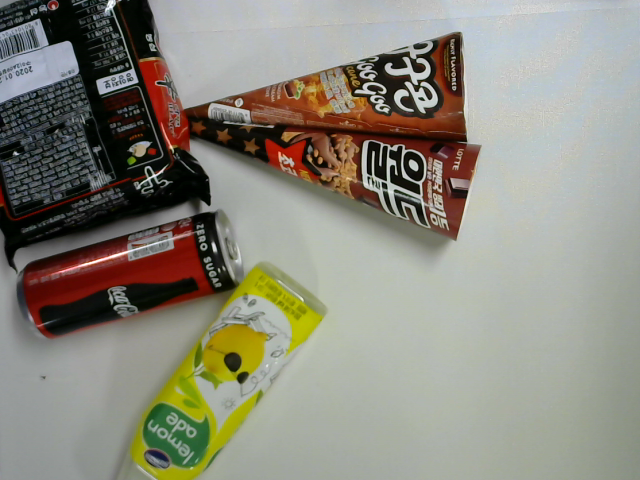Coca_Cola_Zero_Can_250ml: (16, 209, 242, 344)
GooGoo_Cone_CVS: (183, 32, 469, 143)
Sinramen_Black: (1, 1, 216, 277)
Sunkist_Lemonaid_Pet: (113, 264, 330, 480)
World_Cone_Choco: (167, 116, 485, 243)
